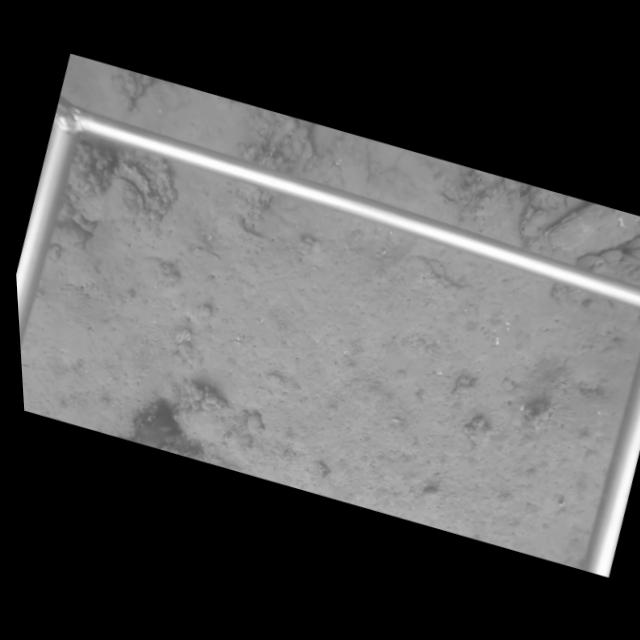Oyster-Closed: (544, 204, 640, 258), (117, 159, 156, 203)
Oyster-Indeterminate: (70, 174, 150, 223)
